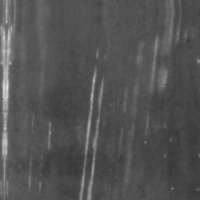scratches: (78, 44, 107, 199)
